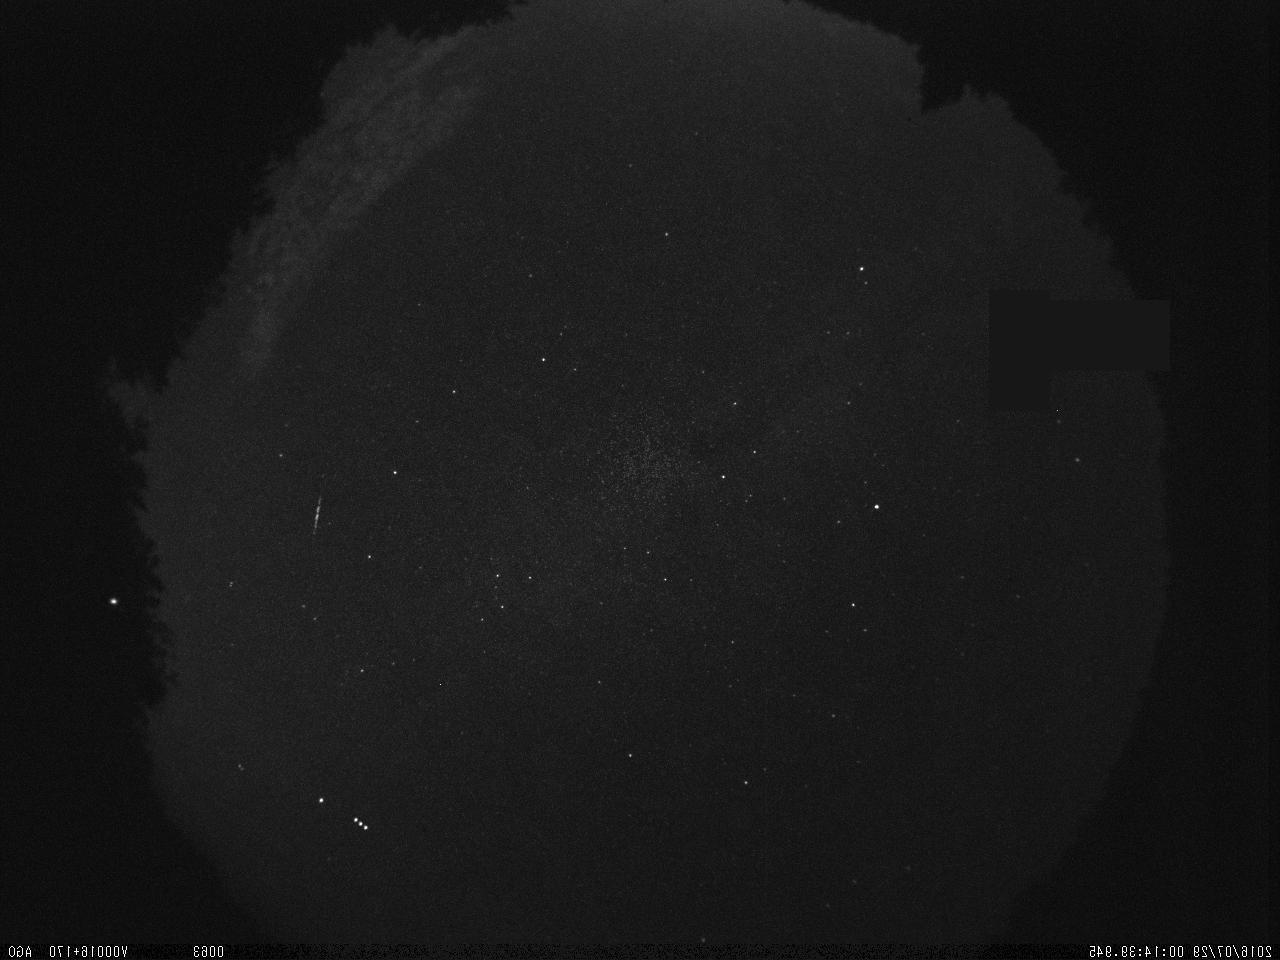meteor: (303, 488, 333, 543)
satelite: (345, 810, 377, 838)
